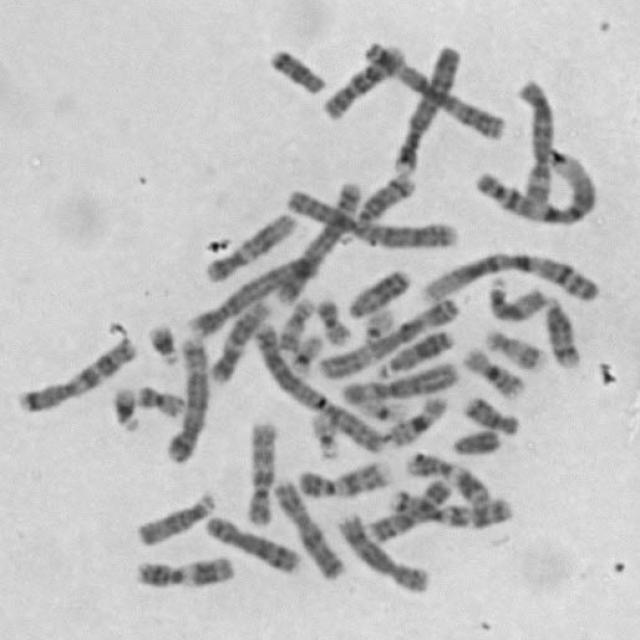A1: (470, 142, 600, 228), (416, 245, 601, 304)
A2: (245, 314, 390, 455), (280, 181, 462, 251)
A3: (356, 35, 508, 141), (312, 291, 462, 380)
B4: (185, 246, 322, 337), (387, 37, 463, 174)
B5: (269, 174, 365, 306), (159, 330, 212, 464)
C10: (316, 38, 410, 122), (238, 413, 280, 529)
C11: (398, 445, 492, 511), (128, 549, 235, 590)
C12: (200, 206, 302, 284), (204, 292, 273, 384)
C6: (509, 73, 558, 206), (334, 356, 459, 405)
C7: (12, 330, 140, 414), (385, 482, 515, 530)
C8: (332, 505, 436, 596), (199, 508, 304, 576)
C9: (361, 472, 456, 544), (294, 454, 396, 500)
D13: (371, 322, 458, 378), (344, 263, 414, 320)
D14: (354, 166, 419, 226), (537, 289, 584, 370)
D15: (131, 485, 219, 548), (484, 274, 548, 322)
E16: (456, 340, 528, 400), (381, 388, 451, 448)
E17: (478, 321, 550, 374), (275, 292, 319, 353)
E18: (262, 40, 328, 96), (457, 389, 523, 436)
F19: (349, 390, 411, 424), (283, 328, 325, 376)
F20: (131, 377, 188, 419), (311, 292, 355, 346)
G21: (142, 316, 183, 366), (106, 381, 143, 433)
G22: (304, 403, 342, 461), (358, 302, 398, 345)
X: (266, 474, 345, 582)
Y: (446, 424, 502, 456)
